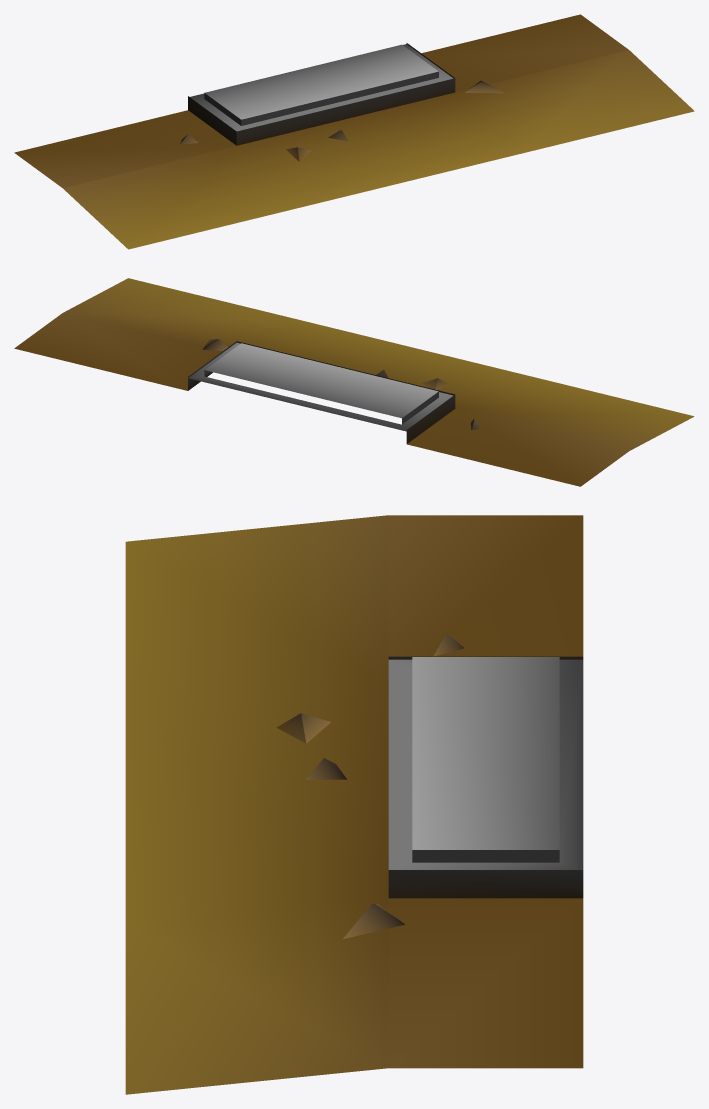
The model's file is ground.obj.
3 renders of one model, top to bottom at view 1: azimuth 30°, elevation 25°; view 2: azimuth 150°, elevation 25°; view 3: azimuth 270°, elevation 25°, orthographic. The views are drawn at different scales.
Parts seen in each view (by area): view 1: ground_part4, ground_part0, ground_part3, ground_part1, ground_part2; view 2: ground_part4, ground_part0, ground_part1, ground_part3; view 3: ground_part4, ground_part0, ground_part1, ground_part3, ground_part2.
Part boxes in pixels (box(x1,y1,x2,y2)): ground_part4: box(14, 14, 694, 249); ground_part0: box(204, 44, 438, 119); ground_part3: box(188, 43, 455, 145); ground_part1: box(180, 44, 504, 161); ground_part2: box(204, 71, 438, 125); ground_part4: box(14, 278, 694, 486); ground_part0: box(205, 343, 438, 418); ground_part1: box(188, 339, 483, 431); ground_part3: box(188, 341, 455, 443); ground_part4: box(125, 515, 583, 1094); ground_part0: box(412, 657, 559, 849); ground_part1: box(276, 633, 583, 938); ground_part3: box(388, 656, 583, 898); ground_part2: box(412, 850, 559, 862).
Size of the model in its own units: 2207 by 121 by 772.
